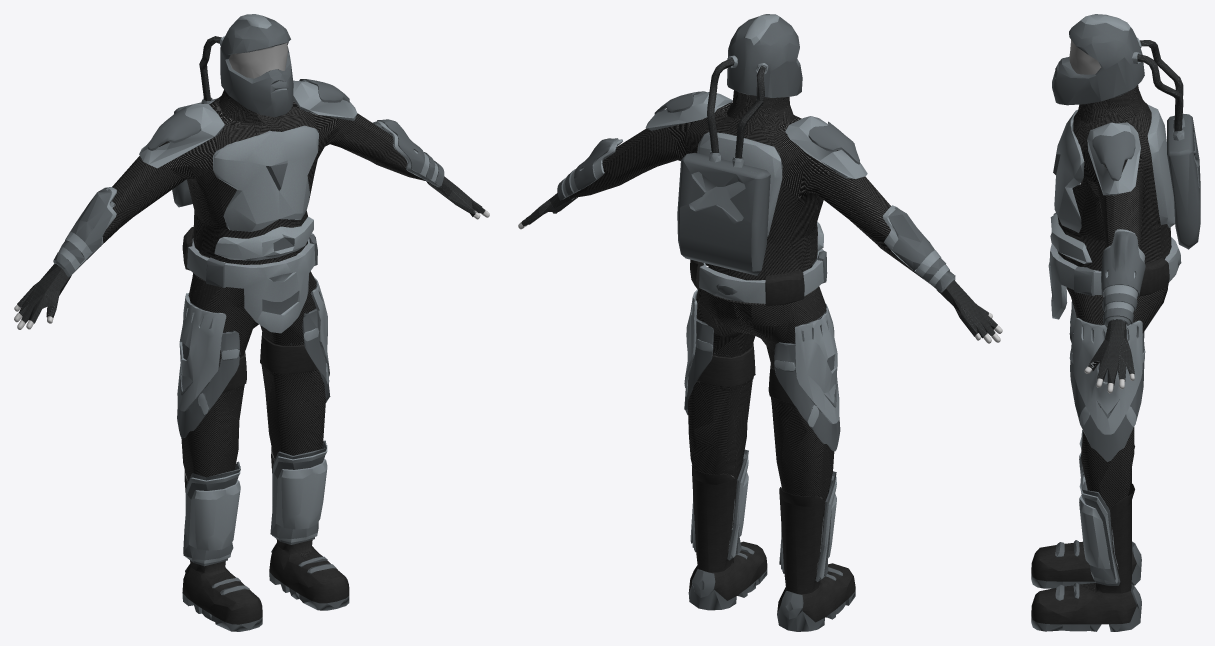
The model's file is personaje.obj.
The picture shows the model from 3 angles, left to right: view 1: azimuth 30°, elevation 25°; view 2: azimuth 150°, elevation 25°; view 3: azimuth 270°, elevation 25°; orthographic projection.
Parts seen in each view (by area): view 1: pPipe4, CAMISETABUENA, PANTALON, bota1, pCube4, armadbota1, cinturon, extrudedSurface2, cosoarmadurapierna2, polySurface6, gafas, hombro1 (+3 smaller); view 2: CAMISETABUENA, extrudedSurface2, PANTALON, bota1, pPipe4, pCube4, cinturon, cosoarmadurapierna2, polySurface6, armadbota1, polySurface1, hombro1 (+3 smaller); view 3: extrudedSurface2, CAMISETABUENA, bota1, pPipe4, cosoarmdaurapierna1, PANTALON, pCube4, cinturon, polySurface1, armadbota1, HOMBRO2, polySurface11 (+3 smaller).
Boxes of the visible parts, x1,y1,x2,y2 form: pPipe4: (17,80,485,323); CAMISETABUENA: (81,70,426,281); PANTALON: (181,252,325,480); bota1: (182,448,349,631); pCube4: (177,293,330,566); armadbota1: (185,445,327,563); cinturon: (182,220,317,333); extrudedSurface2: (172,14,293,207); cosoarmadurapierna2: (177,317,240,438); polySurface6: (222,332,317,392); gafas: (228,42,287,78); hombro1: (148,107,201,150); CAMISETABUENA: (569,90,926,304); extrudedSurface2: (677,14,802,275); PANTALON: (688,265,834,516); bota1: (688,465,855,631); pPipe4: (521,92,997,338); pCube4: (684,303,839,581); cinturon: (690,234,827,306); cosoarmadurapierna2: (774,331,840,451); polySurface6: (697,343,793,404); armadbota1: (692,454,836,579); polySurface1: (557,138,617,200); hombro1: (808,121,859,164); extrudedSurface2: (1052,14,1200,249); CAMISETABUENA: (1058,85,1171,296); bota1: (1031,445,1141,631); pPipe4: (1050,91,1174,385); cosoarmdaurapierna1: (1069,317,1145,434); PANTALON: (1064,247,1167,528); pCube4: (1070,269,1144,585); cinturon: (1048,235,1181,319); polySurface1: (1101,231,1145,324); armadbota1: (1079,437,1118,583); HOMBRO2: (1092,131,1135,180); polySurface11: (1137,54,1183,131).
Size of the model in its own units: 8.31 by 9.74 by 2.57.
